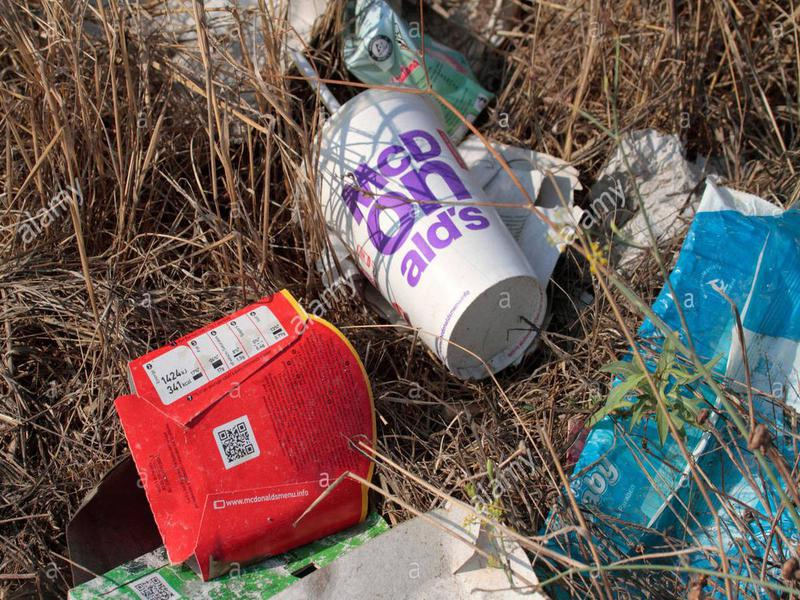cup: (101, 283, 384, 584), (297, 56, 545, 384)
plastic: (549, 172, 800, 586)
